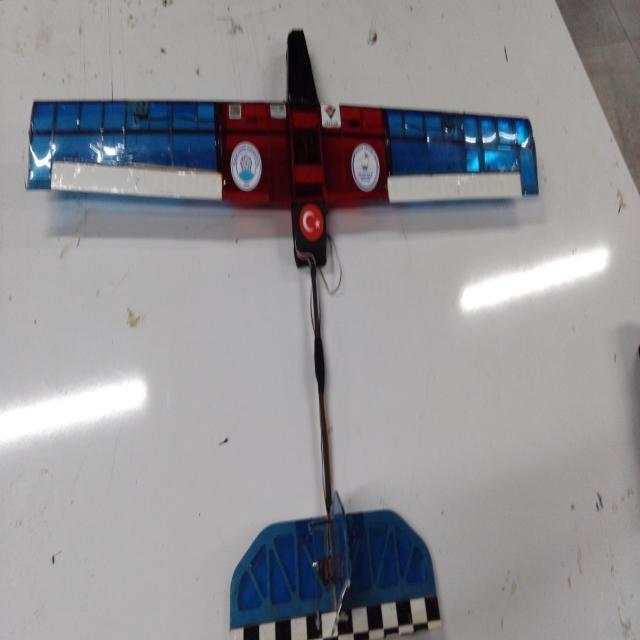iha: (34, 21, 613, 631)
